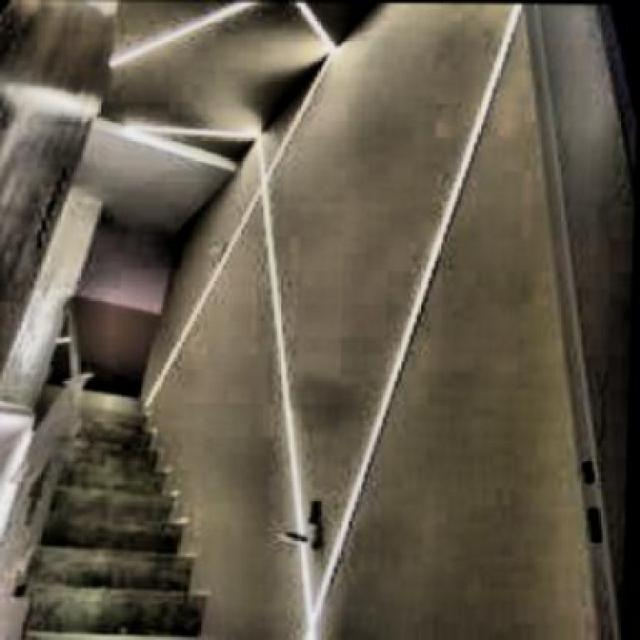stair: (0, 394, 269, 640)
